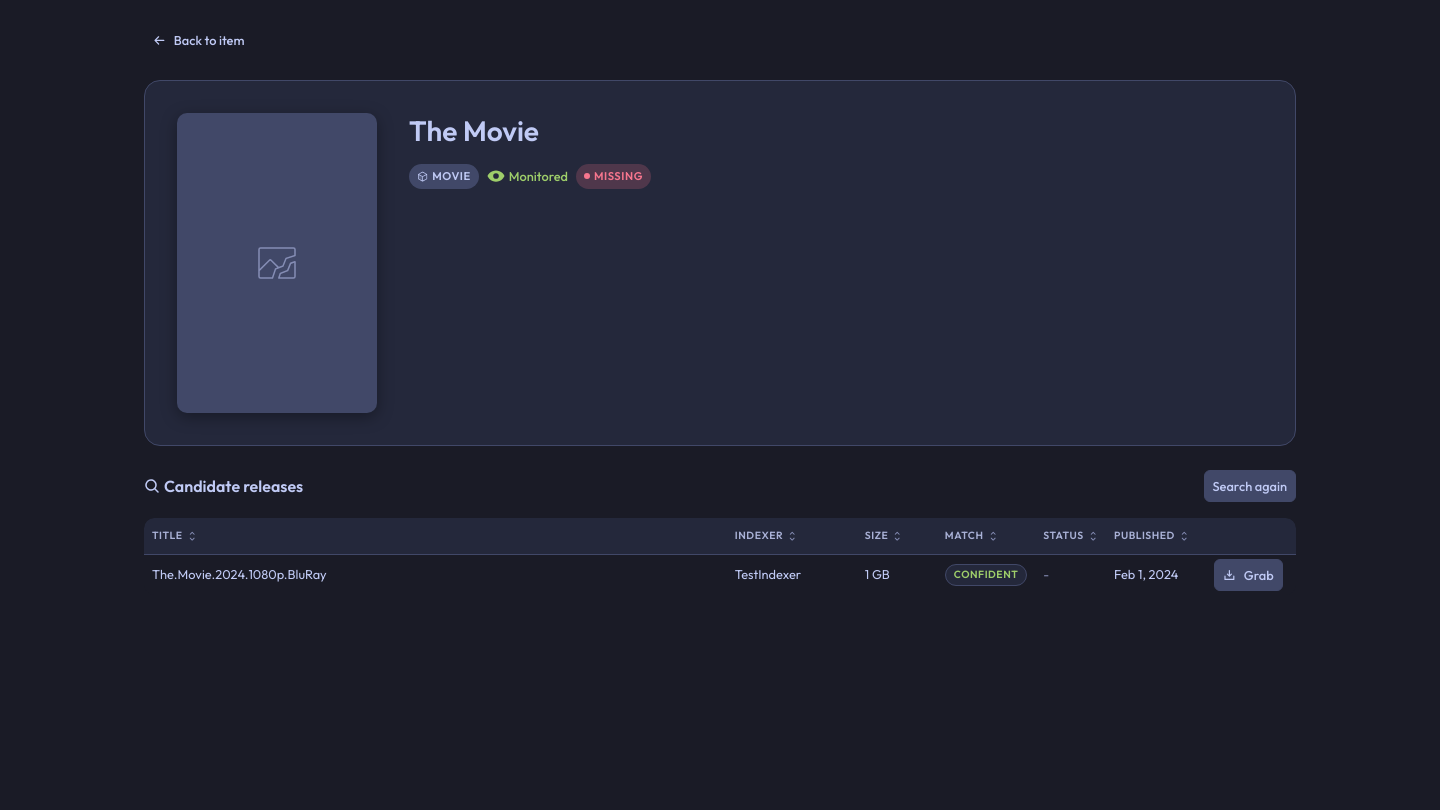
InteractiveSearchPage › reports the actual grab failure: No enabled download client is configured.
Click the button "Grab" at (1248, 575), box [1214, 559, 1283, 591]
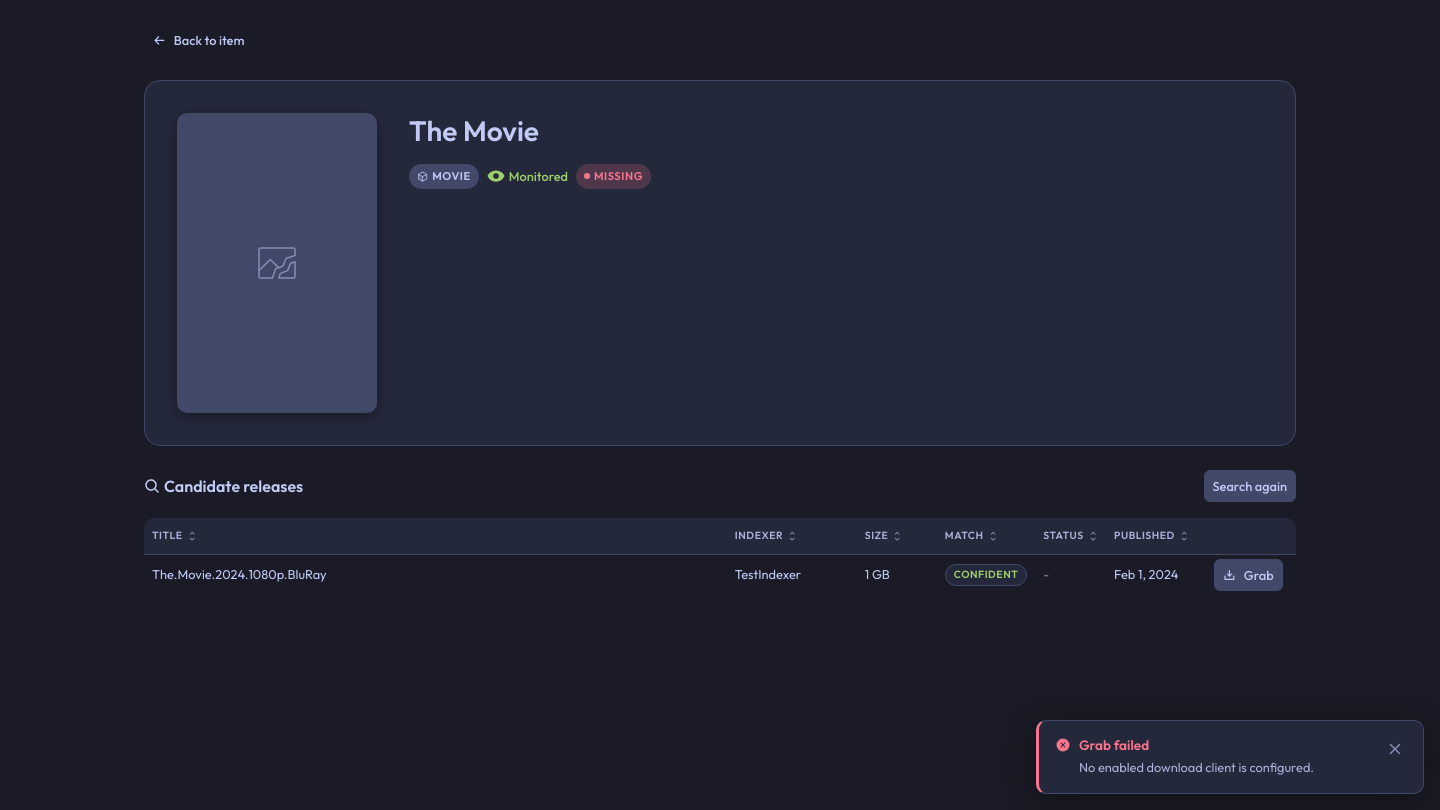
Expected: the text "Grab failed" is shown, [1079, 736, 1149, 754]
Expected: the text "No enabled download client is configured." is shown, [1079, 758, 1314, 777]
